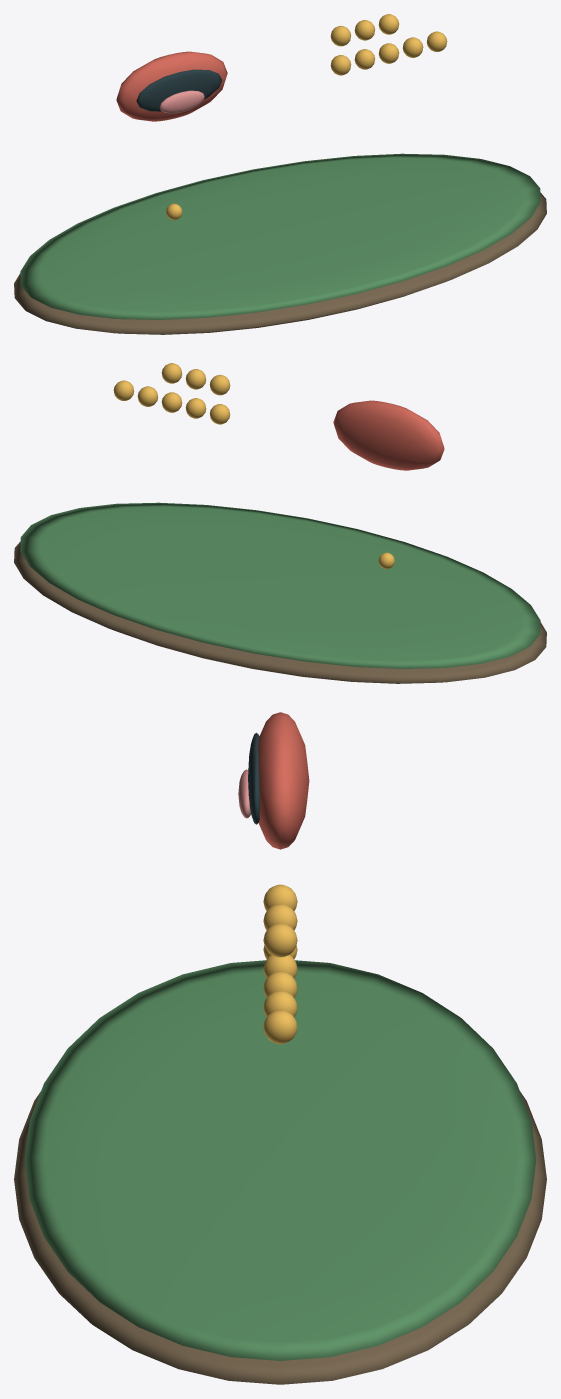
The model's file is complete-first-only-one-of-eight.glb.
3 renders of one model, top to bottom at view 1: azimuth 30°, elevation 25°; view 2: azimuth 150°, elevation 25°; view 3: azimuth 270°, elevation 25°, orthographic. The views are drawn at different scales.
Visible parts, largest first — view 1: complete-first-only-one-of-eight_surface_01, complete-first-only-one-of-eight_surface_00, complete-first-only-one-of-eight_surface_02, complete-first-only-one-of-eight_surface_05, complete-first-only-one-of-eight_surface_03, complete-first-only-one-of-eight_surface_04; view 2: complete-first-only-one-of-eight_surface_01, complete-first-only-one-of-eight_surface_00, complete-first-only-one-of-eight_surface_02, complete-first-only-one-of-eight_surface_05; view 3: complete-first-only-one-of-eight_surface_01, complete-first-only-one-of-eight_surface_00, complete-first-only-one-of-eight_surface_02, complete-first-only-one-of-eight_surface_05, complete-first-only-one-of-eight_surface_03.
Boxes of the visible parts, x1,y1,x2,y2 form: complete-first-only-one-of-eight_surface_01: (20,153,540,319); complete-first-only-one-of-eight_surface_00: (14,192,546,334); complete-first-only-one-of-eight_surface_02: (116,51,227,121); complete-first-only-one-of-eight_surface_05: (166,14,447,219); complete-first-only-one-of-eight_surface_03: (136,69,221,111); complete-first-only-one-of-eight_surface_04: (159,90,204,113); complete-first-only-one-of-eight_surface_01: (20,502,540,668); complete-first-only-one-of-eight_surface_00: (14,541,546,683); complete-first-only-one-of-eight_surface_02: (333,400,444,470); complete-first-only-one-of-eight_surface_05: (113,363,394,568); complete-first-only-one-of-eight_surface_01: (24,960,536,1360); complete-first-only-one-of-eight_surface_00: (14,1091,546,1384); complete-first-only-one-of-eight_surface_02: (258,712,309,849); complete-first-only-one-of-eight_surface_05: (263,884,297,1044); complete-first-only-one-of-eight_surface_03: (248,732,259,824).
Bounding box in the file's own units: 4.56 × 2.01 × 2.5.
